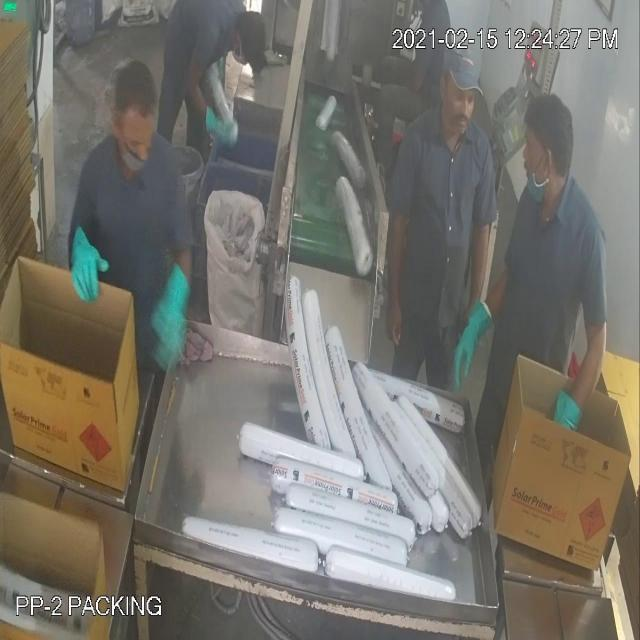Gloves: (30, 58, 480, 340)
